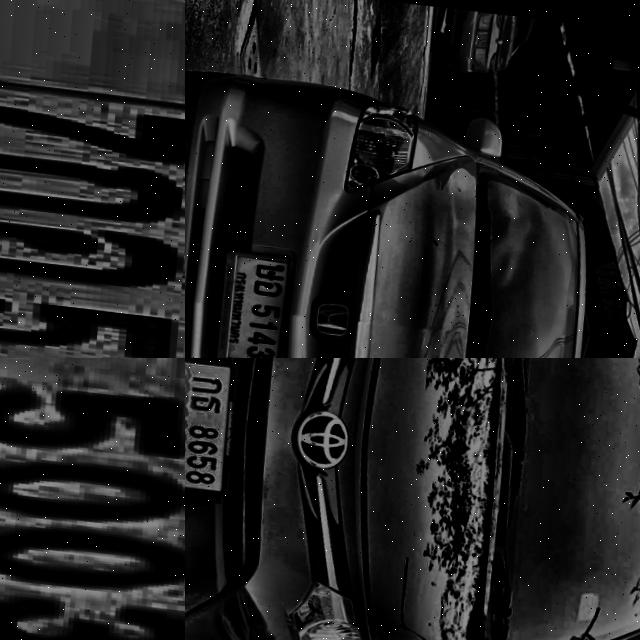license-plate: (0, 0, 185, 358), (0, 358, 185, 640), (203, 244, 303, 358), (185, 358, 244, 502)
